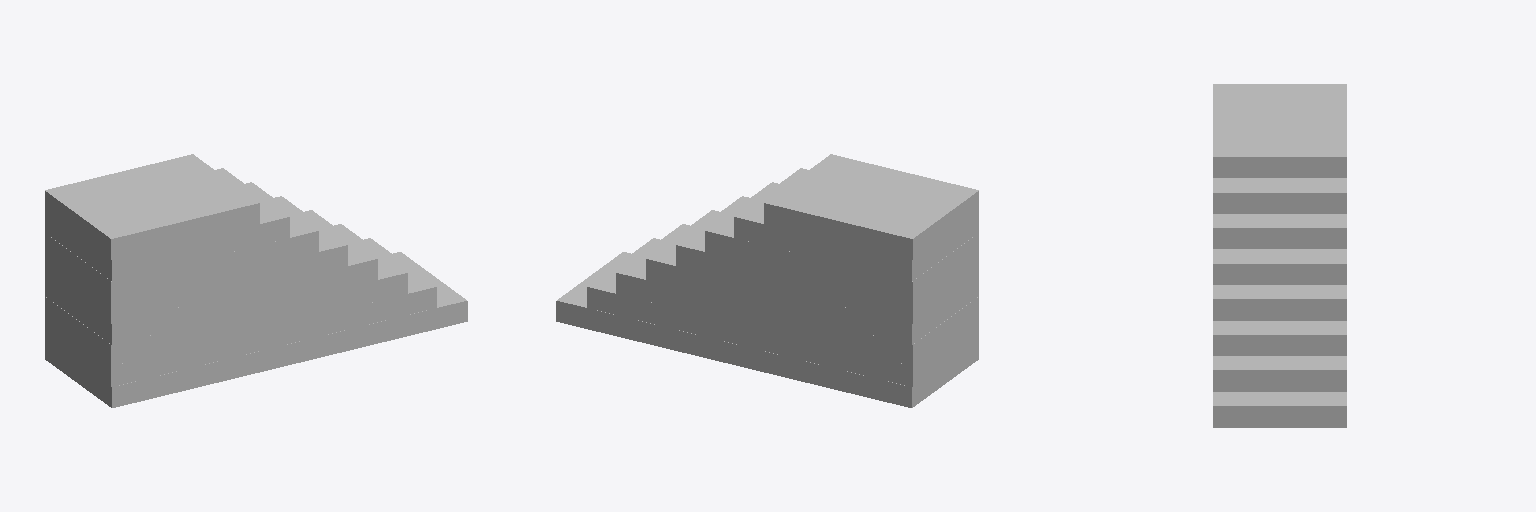
File: stairs2.obj
3 views of the same model, side by side, from view 1: azimuth 30°, elevation 25°; view 2: azimuth 150°, elevation 25°; view 3: azimuth 270°, elevation 25° (orthographic).
Parts seen in each view (by area): view 1: ungrouped, frontstairs; view 2: ungrouped, frontstairs; view 3: ungrouped, frontstairs.
Boxes of the visible parts, x1,y1,x2,y2 form: ungrouped: [45, 154, 467, 407]; frontstairs: [45, 191, 111, 407]; ungrouped: [556, 154, 978, 407]; frontstairs: [912, 191, 978, 407]; ungrouped: [1213, 84, 1346, 405]; frontstairs: [1213, 157, 1346, 427].
Size of the model in its own units: 2.34 by 1.06 by 0.762.